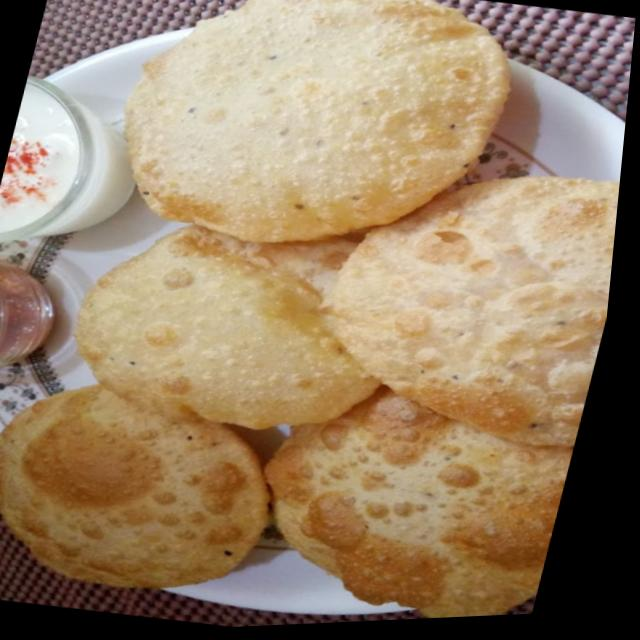POORI: (0, 0, 620, 618)
